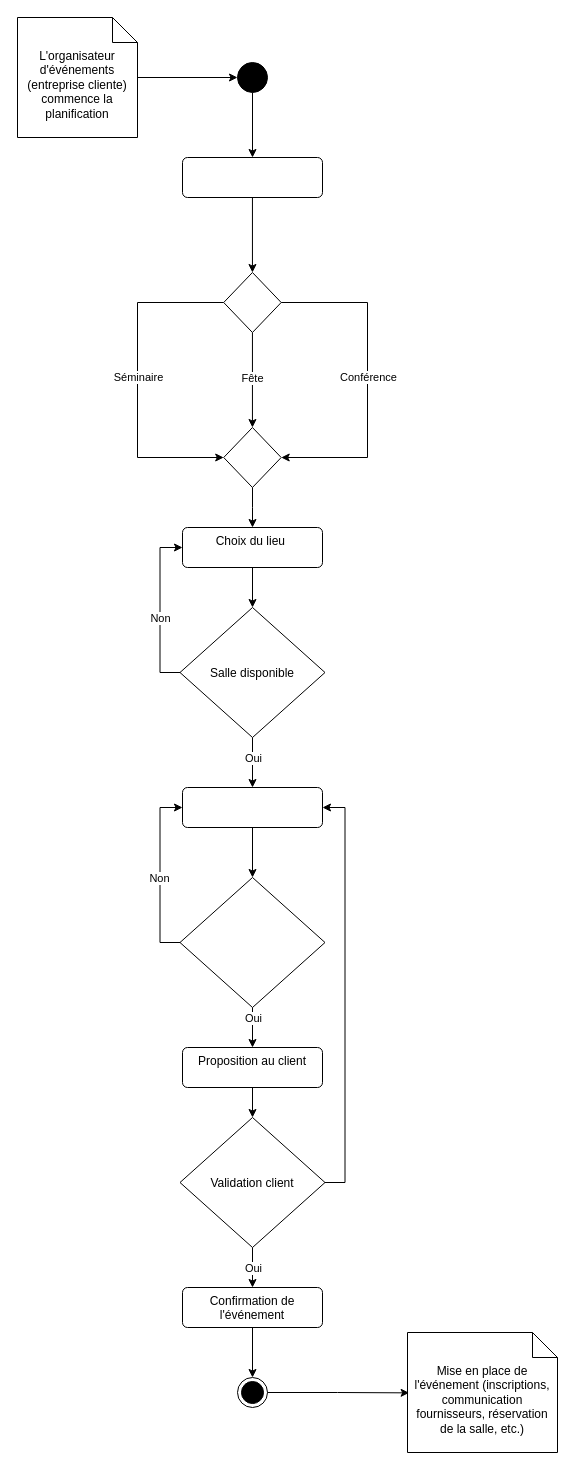
Some shapes in this 575 by 1470 pixel diagram are drawn without their labels. Each missing label, with the centre of its shape:
"Choix du type d'événement" belongs at [252,177].
"Configuration de l'événement" belongs at [252,807].
"Options disponibles" belongs at [252,942].
